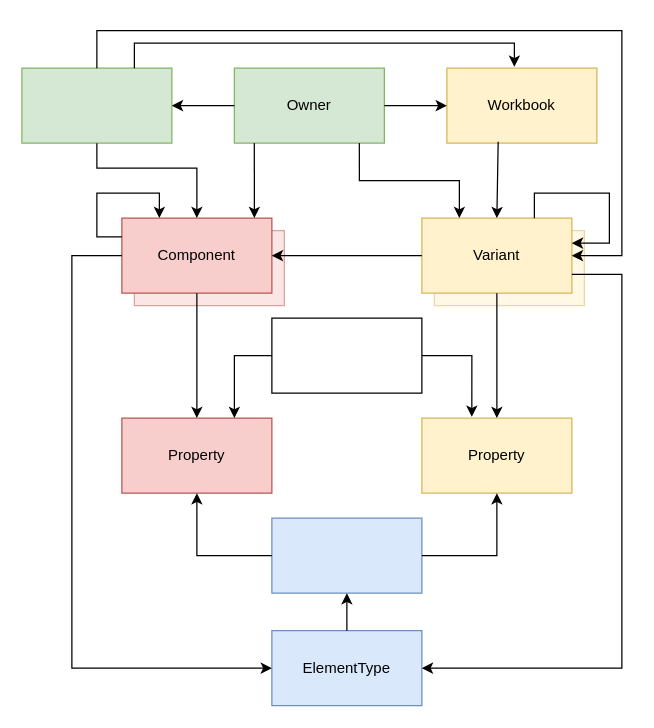
The diagram is 654 pixels wide and 728 high, and some of its shapes have lost their labels. Here are the shapes that lost their labels. From the top down, the box of each, then its label:
(21, 67, 172, 143): Group
(271, 317, 422, 393): Modification
(271, 517, 422, 593): PropertyType
